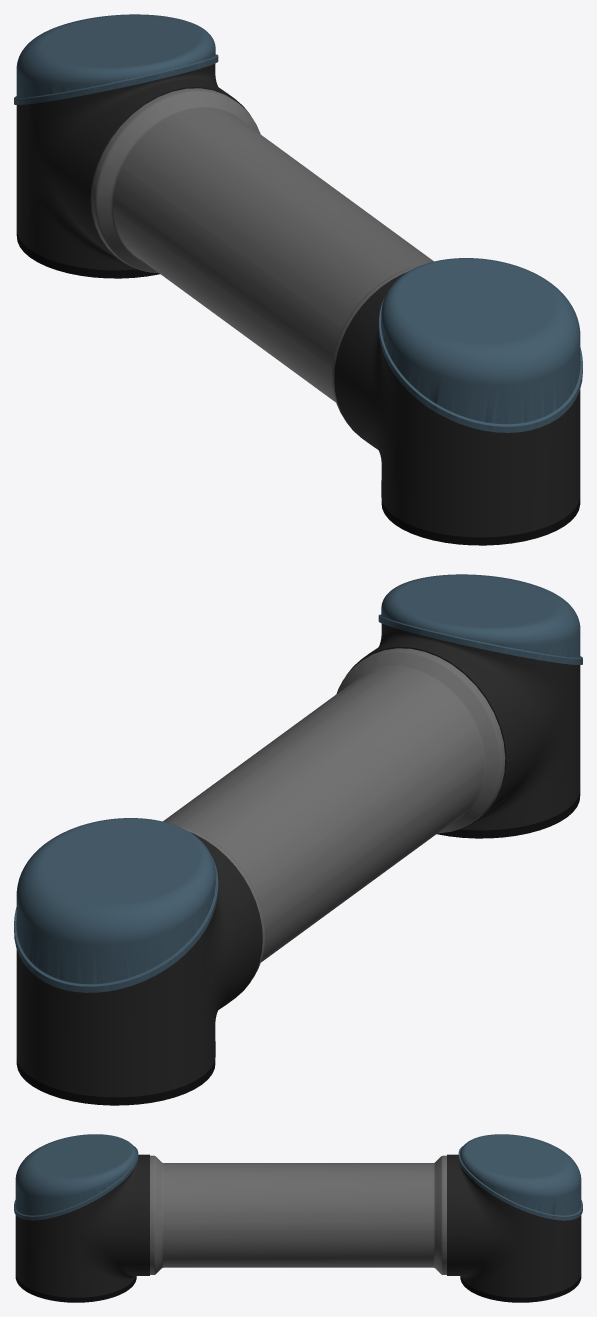
The model's file is upperarm.obj.
3 renders of one model, top to bottom at view 1: azimuth 30°, elevation 25°; view 2: azimuth 150°, elevation 25°; view 3: azimuth 270°, elevation 25°, orthographic. The views are drawn at different scales.
Parts seen in each view (by area): view 1: Actor3, Actor2, Actor1, Actor0, Actor4; view 2: Actor3, Actor0, Actor4, Actor2, Actor1; view 3: Actor3, Actor0, Actor2, Actor1, Actor4.
Boxes of the visible parts, bbox=[...] form: Actor3: bbox=[91, 88, 433, 419]; Actor2: bbox=[334, 272, 580, 545]; Actor1: bbox=[378, 258, 582, 432]; Actor0: bbox=[16, 64, 250, 278]; Actor4: bbox=[14, 14, 218, 104]; Actor3: bbox=[163, 648, 505, 978]; Actor0: bbox=[16, 832, 262, 1105]; Actor4: bbox=[14, 818, 218, 992]; Actor2: bbox=[346, 624, 580, 838]; Actor1: bbox=[378, 574, 582, 664]; Actor3: bbox=[150, 1155, 446, 1274]; Actor0: bbox=[447, 1154, 581, 1302]; Actor2: bbox=[15, 1154, 149, 1302]; Actor1: bbox=[14, 1134, 138, 1220]; Actor4: bbox=[458, 1134, 582, 1220].
Size of the model in its own units: 0.119 by 0.1337 by 0.544.
